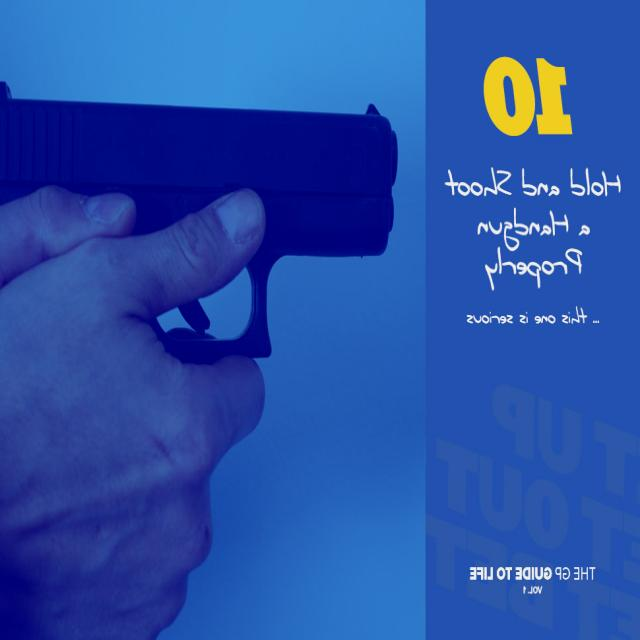pistol: (4, 73, 398, 378)
